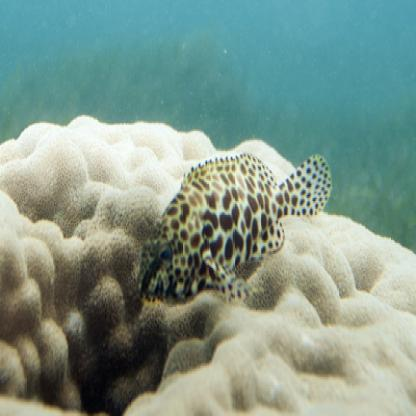grouper: (138, 143, 335, 327)
